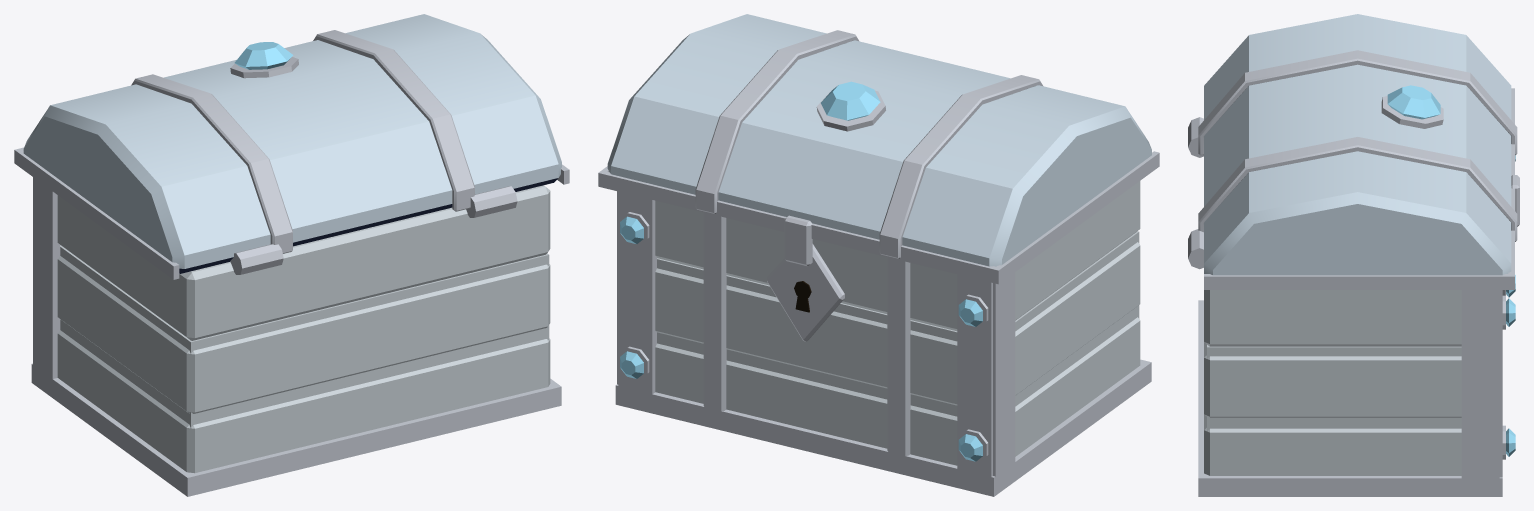
The model's file is coffre_diamant.fbx.
3 views of the same model, side by side, from view 1: azimuth 30°, elevation 25°; view 2: azimuth 150°, elevation 25°; view 3: azimuth 270°, elevation 25° (orthographic). The views are drawn at different scales.
Parts seen in each view (by area): view 1: Corps, Couvercle, Ferrures, Gemme_0; view 2: Couvercle, Corps, Ferrures, Gemme_0; view 3: Couvercle, Corps, Ferrures, Gemme_0.
Boxes of the visible parts, x1,y1,x2,y2 form: Corps: [57, 185, 550, 473]; Couvercle: [14, 14, 569, 279]; Ferrures: [31, 177, 561, 496]; Gemme_0: [234, 42, 293, 69]; Couvercle: [598, 14, 1159, 284]; Corps: [655, 181, 1140, 465]; Ferrures: [615, 191, 1151, 496]; Gemme_0: [821, 81, 880, 120]; Couvercle: [1198, 14, 1519, 289]; Corps: [1204, 290, 1461, 475]; Ferrures: [1188, 117, 1505, 496]; Gemme_0: [1387, 85, 1440, 119].
Bounding box in the file's own units: 1.52 × 1.2 × 1.13.
